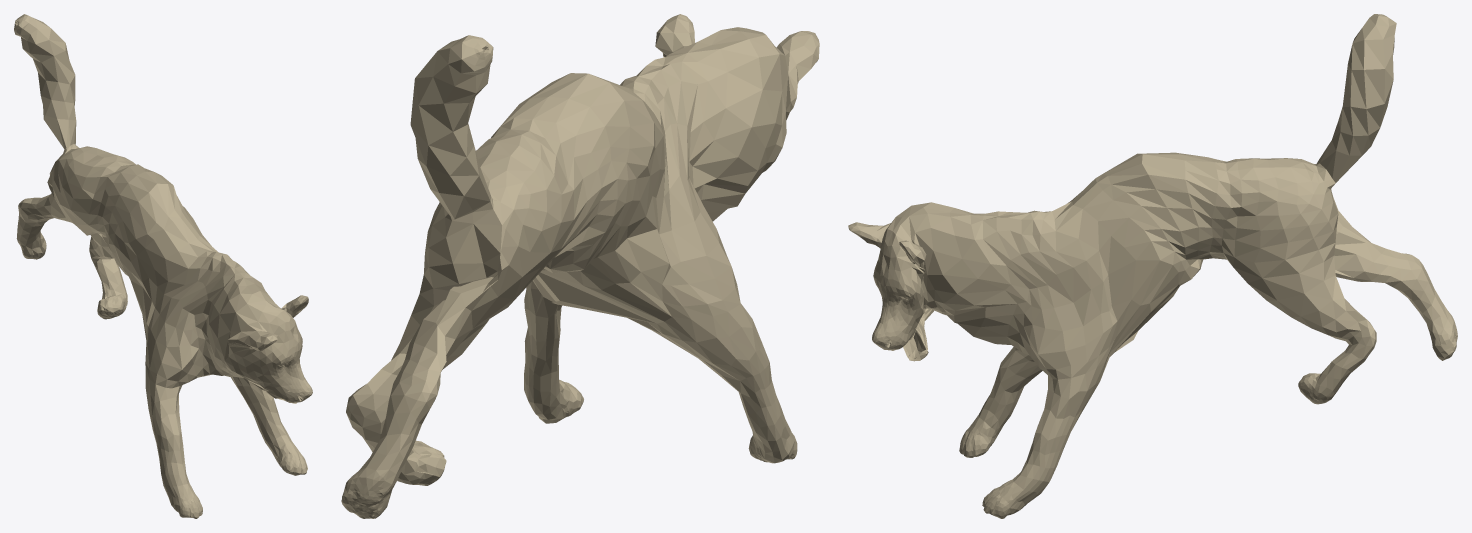
The picture shows the model from 3 angles, left to right: view 1: azimuth 30°, elevation 25°; view 2: azimuth 150°, elevation 25°; view 3: azimuth 270°, elevation 25°; orthographic projection. The views are drawn at different scales.
Visible parts, largest first — view 1: world; view 2: world; view 3: world.
Part boxes in pixels (bbox=[...]): world: bbox=[14, 14, 312, 518]; world: bbox=[341, 14, 819, 518]; world: bbox=[848, 14, 1457, 518].
Bounding box in the file's own units: 0.4023 × 1.01 × 1.26.
